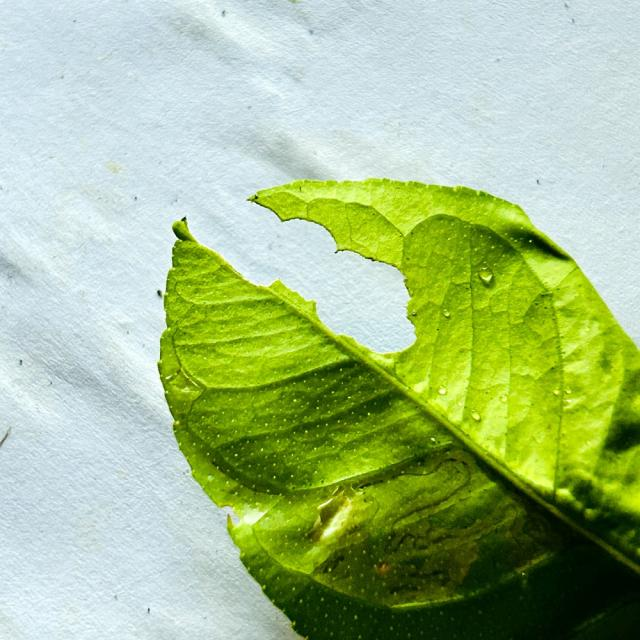Deficiency Leaf: (181, 199, 413, 353), (208, 495, 245, 527)
Lemon: (158, 180, 639, 637)
